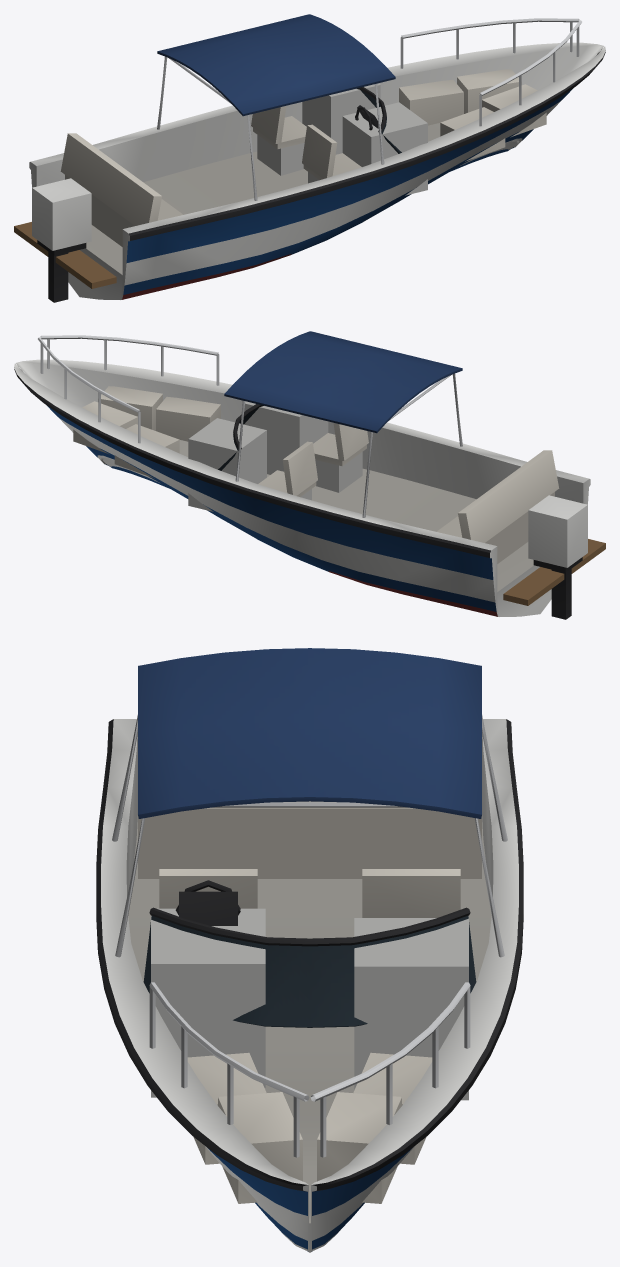
The model's file is runabout.glb.
The picture shows the model from 3 angles, top to bottom: view 1: azimuth 30°, elevation 25°; view 2: azimuth 150°, elevation 25°; view 3: azimuth 270°, elevation 25°; orthographic projection. The views are drawn at different scales.
Visible parts, largest first — view 1: lod0; view 2: lod0; view 3: lod0.
Boxes of the visible parts, x1,y1,x2,y2 form: lod0: (14,14,605,302); lod0: (14,331,605,619); lod0: (96,648,523,1252).
Size of what is drawn, in the model's own units: 7.92 by 2.61 by 2.61.
